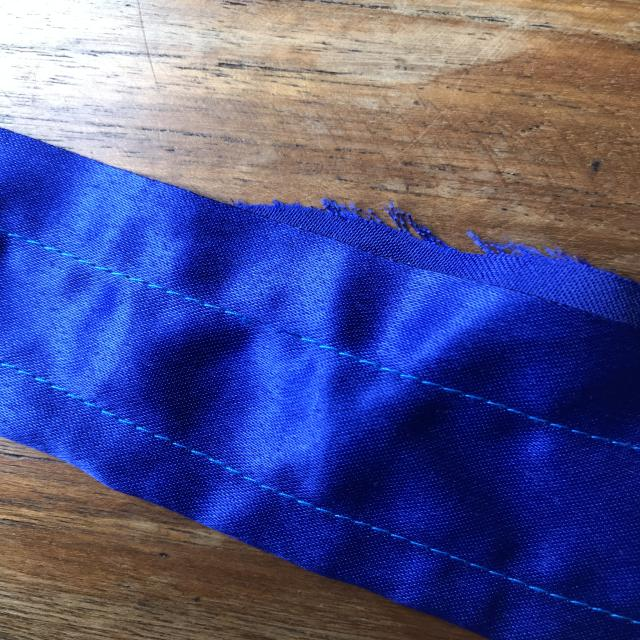broken: (226, 296, 336, 366)
good: (325, 500, 460, 566)
